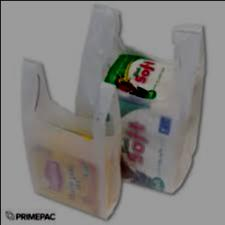Plastic: (60, 0, 213, 195), (16, 43, 127, 224)
